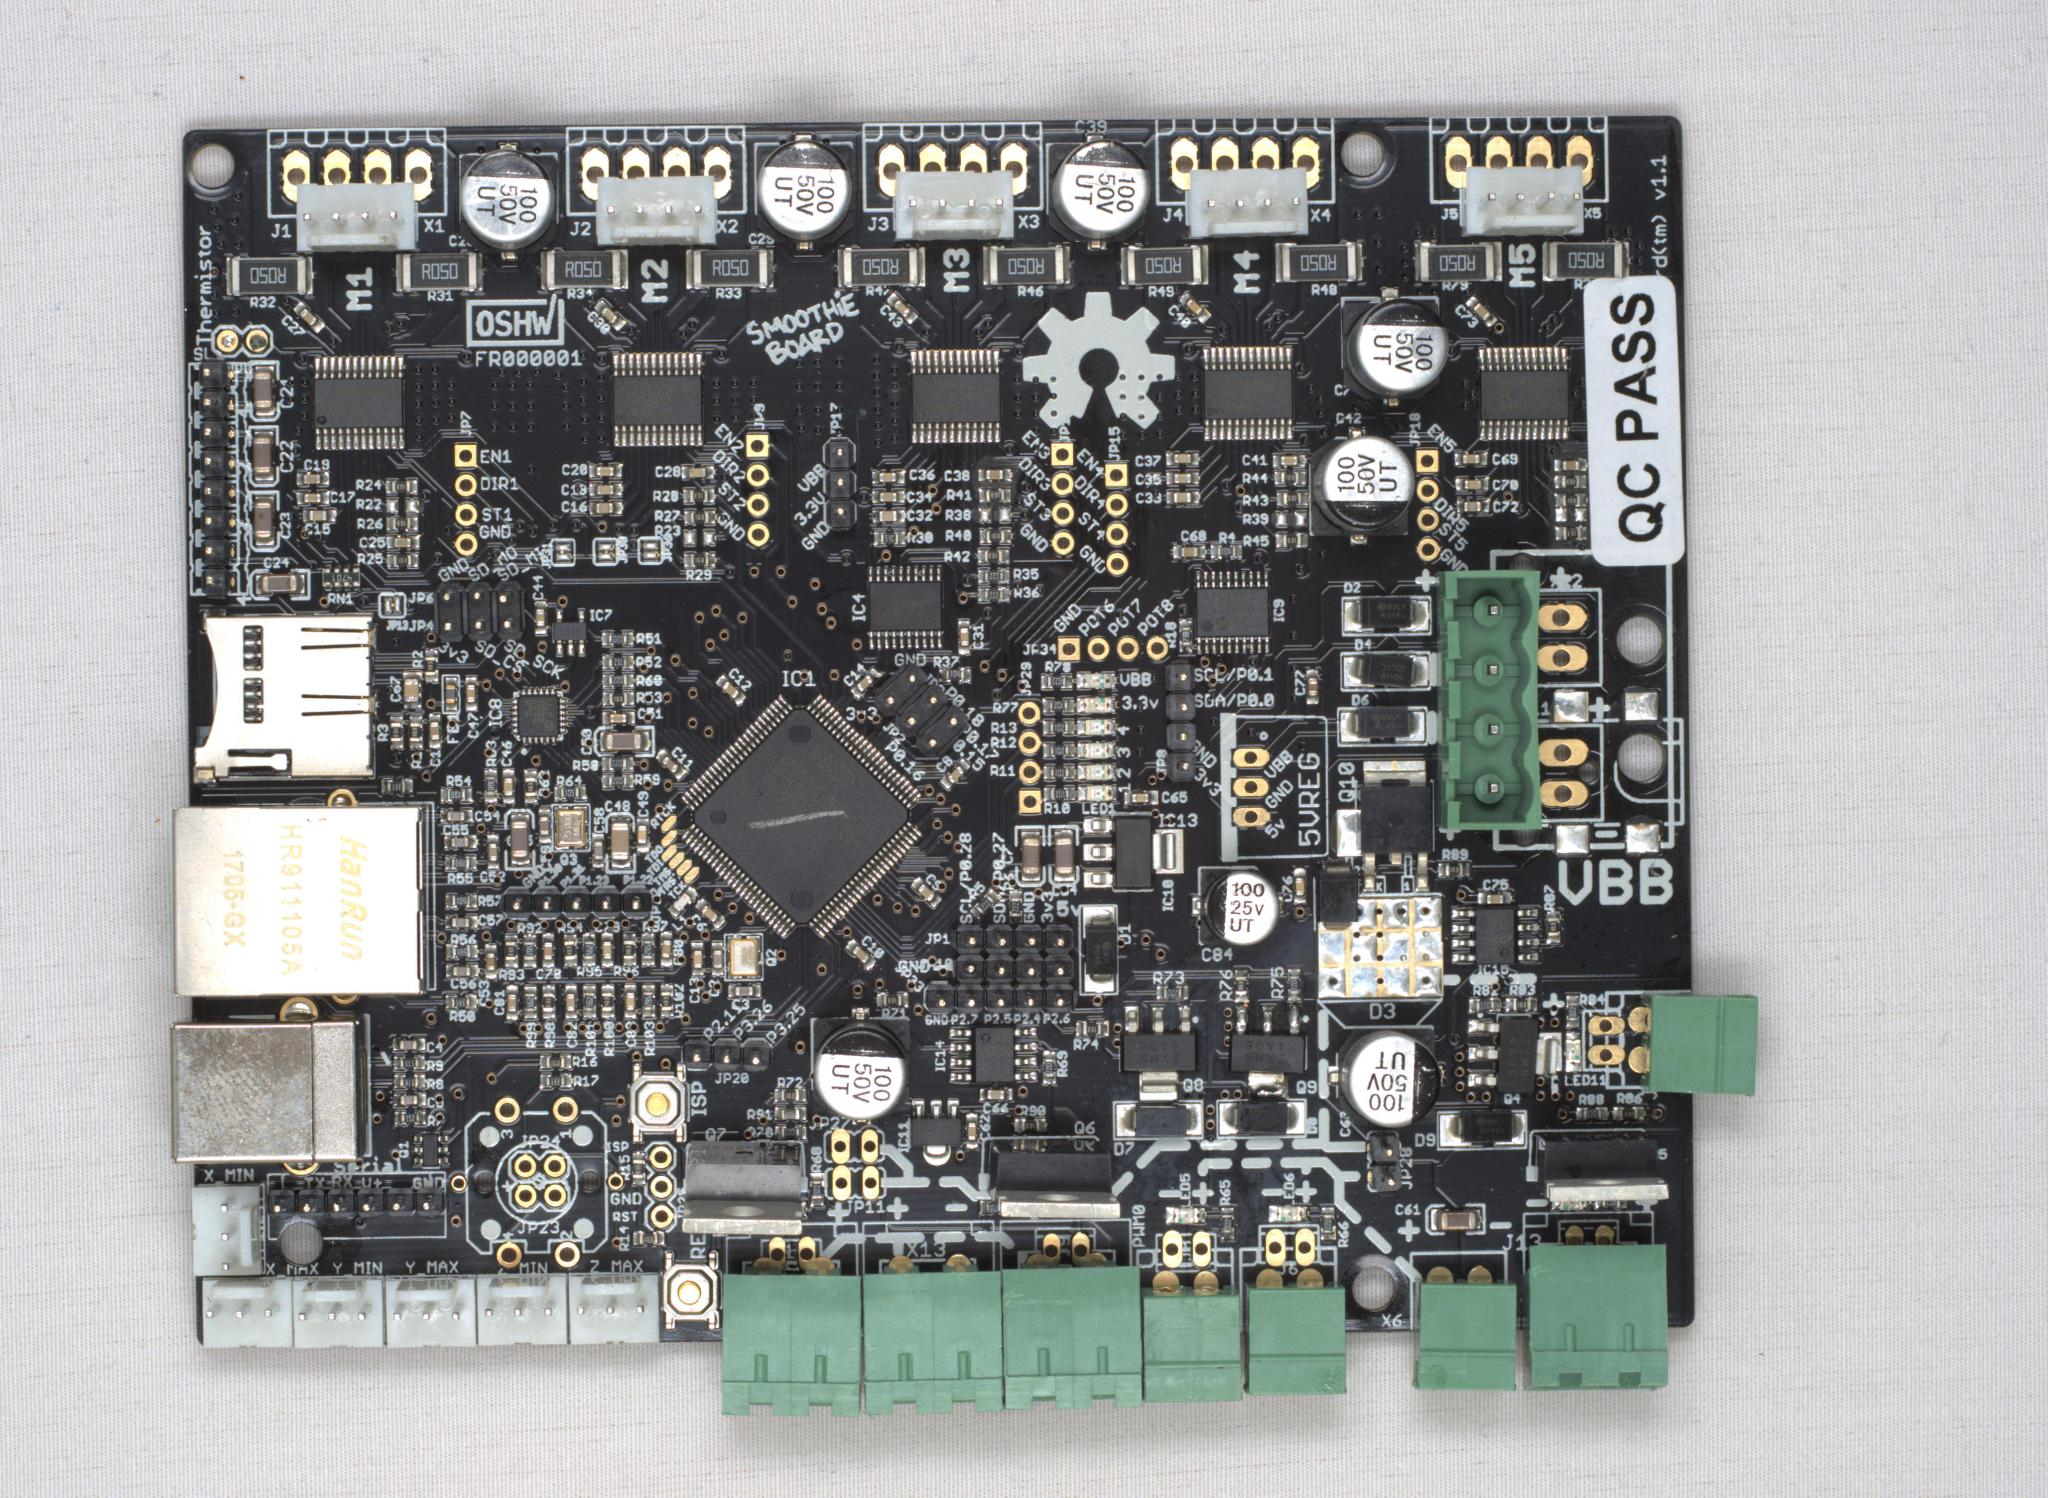Button: (626, 1060, 686, 1141), (662, 1247, 720, 1327)
Capacitor: (502, 806, 534, 869), (604, 809, 636, 872), (246, 423, 278, 486), (248, 566, 310, 598), (596, 724, 658, 756), (1424, 1201, 1486, 1233), (248, 489, 280, 550), (1047, 823, 1079, 883), (1014, 823, 1044, 886), (249, 359, 279, 420), (592, 296, 626, 331), (938, 755, 972, 789), (884, 290, 918, 324), (848, 665, 882, 698), (1178, 289, 1210, 324), (655, 746, 687, 780), (714, 672, 746, 705), (1464, 294, 1496, 327), (292, 300, 324, 333), (844, 937, 876, 969), (910, 875, 942, 906), (402, 669, 422, 707), (588, 497, 622, 514), (871, 506, 905, 523), (391, 1034, 425, 1051), (1165, 449, 1199, 466), (1165, 468, 1199, 485), (1270, 450, 1306, 466), (301, 506, 335, 522), (385, 532, 419, 548), (1170, 541, 1204, 557), (601, 707, 635, 723), (587, 461, 621, 477), (685, 466, 719, 482), (871, 468, 905, 484), (295, 469, 329, 485), (1454, 473, 1488, 489), (870, 487, 904, 503), (1165, 487, 1199, 503), (296, 488, 328, 505), (976, 466, 1012, 481), (956, 615, 970, 653), (1124, 788, 1156, 804), (588, 480, 620, 496), (1456, 497, 1490, 512), (444, 961, 478, 976), (1292, 866, 1306, 902), (563, 981, 577, 1017), (622, 982, 636, 1018), (444, 912, 476, 927), (979, 1085, 1011, 1100), (393, 1090, 425, 1105), (438, 807, 472, 821), (727, 982, 761, 996), (1454, 450, 1486, 464), (1477, 889, 1511, 902), (464, 673, 476, 709), (486, 832, 498, 868), (690, 938, 702, 974), (710, 938, 722, 974), (484, 941, 496, 977), (533, 599, 545, 634), (1306, 668, 1318, 703), (428, 712, 440, 747), (502, 766, 514, 801), (636, 815, 648, 850), (541, 930, 553, 965), (506, 982, 518, 1017), (965, 1111, 977, 1146), (443, 833, 475, 846), (590, 832, 602, 866), (1552, 457, 1586, 469), (601, 932, 613, 963), (539, 806, 549, 842), (660, 930, 670, 963)
Clock: (723, 931, 763, 980), (550, 801, 590, 849)
Connector: (168, 786, 436, 1003), (168, 996, 372, 1175), (188, 603, 378, 785), (1434, 568, 1540, 830), (1524, 1207, 1668, 1387), (723, 1234, 861, 1415), (863, 1233, 1003, 1410), (1003, 1233, 1143, 1409), (1408, 1253, 1516, 1389), (1624, 988, 1756, 1093), (1143, 1267, 1243, 1401), (1246, 1265, 1346, 1393), (186, 361, 238, 596), (576, 142, 736, 201), (1166, 134, 1324, 192), (874, 141, 1032, 197), (859, 688, 953, 782), (892, 168, 1014, 240), (280, 145, 434, 202), (295, 181, 419, 251), (1441, 132, 1595, 188), (1458, 166, 1584, 234), (595, 175, 717, 245), (1186, 167, 1308, 234), (1534, 721, 1604, 821), (190, 1182, 264, 1273), (384, 1273, 476, 1345), (201, 1273, 293, 1345), (567, 1270, 659, 1341), (476, 1272, 568, 1343), (292, 1274, 382, 1345), (1538, 586, 1602, 685), (266, 1186, 444, 1214), (501, 884, 651, 917), (924, 981, 1076, 1010), (1164, 660, 1196, 780), (1230, 741, 1272, 829), (950, 922, 1074, 951), (953, 952, 1075, 981), (1102, 459, 1130, 578), (1412, 445, 1440, 561), (822, 435, 856, 529), (744, 430, 770, 548), (1048, 437, 1074, 555), (679, 1037, 771, 1070), (1056, 634, 1168, 661), (644, 1136, 674, 1230), (452, 439, 476, 555), (1017, 698, 1041, 814), (434, 579, 524, 609), (432, 611, 526, 638), (1260, 1223, 1316, 1263), (1156, 1226, 1212, 1266), (1365, 1127, 1399, 1191), (822, 1162, 886, 1196), (822, 1126, 884, 1161), (506, 1178, 570, 1210), (1586, 1011, 1624, 1064), (506, 1147, 570, 1178), (212, 323, 272, 356), (488, 1237, 526, 1268), (549, 1238, 583, 1269), (490, 1092, 520, 1123), (550, 1093, 578, 1123)
Diode: (1340, 650, 1438, 691), (1334, 706, 1436, 745), (1077, 902, 1117, 993), (1215, 1097, 1307, 1136), (1111, 1098, 1203, 1137), (1434, 1108, 1526, 1147), (1340, 595, 1430, 634), (1315, 858, 1355, 927)
Electrolytic Capacitor: (1336, 285, 1448, 404), (454, 139, 560, 259), (1307, 426, 1415, 543), (1044, 135, 1152, 249), (1326, 1025, 1444, 1126), (808, 1005, 908, 1124), (755, 131, 851, 251), (1156, 857, 1244, 939)
Ferrite Bead: (440, 672, 460, 712)
IC: (678, 692, 922, 938), (311, 350, 405, 449), (1477, 345, 1569, 440), (610, 350, 702, 445), (1200, 345, 1292, 438), (909, 348, 1001, 441), (1079, 809, 1181, 890), (1192, 569, 1270, 656), (866, 563, 942, 646), (1452, 905, 1538, 963), (908, 1094, 962, 1165), (509, 684, 567, 743), (550, 605, 584, 655)
Inductor: (666, 883, 698, 915)
Led: (1075, 715, 1115, 735), (1074, 670, 1116, 689), (1266, 1202, 1308, 1220), (1164, 1204, 1206, 1222), (1564, 1028, 1582, 1069), (1076, 694, 1116, 712), (1076, 761, 1116, 779), (1076, 739, 1114, 757), (1076, 782, 1116, 799), (1552, 1197, 1590, 1208)
Pads: (1552, 685, 1662, 853), (1312, 892, 1442, 997), (376, 590, 406, 617), (636, 534, 660, 564), (550, 535, 574, 565), (592, 536, 616, 565), (682, 528, 716, 547), (1272, 508, 1306, 526), (384, 496, 418, 513), (976, 505, 1012, 521), (1554, 505, 1586, 521), (682, 862, 700, 881), (667, 849, 683, 869), (660, 813, 676, 831), (660, 827, 676, 845), (660, 842, 676, 860), (676, 857, 692, 875)
Resistor Jumper: (320, 564, 360, 589)
Resistor Network: (1274, 240, 1362, 283), (686, 247, 774, 289), (836, 246, 926, 287), (1413, 240, 1501, 281), (1120, 244, 1208, 285), (538, 249, 628, 289), (394, 252, 482, 291), (1542, 240, 1628, 279), (982, 246, 1070, 284), (968, 885, 1000, 918), (1040, 716, 1074, 735), (444, 891, 478, 909), (444, 851, 476, 870), (392, 1108, 426, 1125), (1042, 740, 1074, 758), (1042, 761, 1074, 779), (522, 767, 538, 802), (1272, 531, 1306, 547), (444, 942, 478, 958), (1154, 983, 1186, 1000), (876, 993, 908, 1010), (392, 1052, 424, 1069), (772, 1104, 806, 1120), (384, 477, 418, 493), (1044, 696, 1074, 714), (682, 507, 714, 523), (978, 526, 1010, 542), (1037, 665, 1069, 681), (602, 689, 634, 705), (1438, 858, 1470, 874), (393, 1072, 425, 1088), (552, 784, 586, 799), (1076, 983, 1110, 998), (1286, 964, 1300, 1000), (503, 930, 517, 965), (522, 932, 536, 967), (640, 981, 654, 1016), (523, 983, 537, 1018), (1565, 991, 1579, 1026), (1219, 1205, 1233, 1240), (1275, 491, 1307, 506), (1553, 491, 1585, 506), (385, 515, 417, 530), (386, 552, 418, 567), (978, 585, 1008, 601), (600, 630, 632, 645), (938, 666, 970, 681), (1039, 673, 1071, 688), (380, 776, 412, 791), (482, 770, 498, 800), (439, 785, 471, 800), (538, 1052, 570, 1067), (539, 1071, 571, 1086), (682, 487, 714, 502), (388, 714, 402, 748), (1544, 908, 1558, 942), (1234, 968, 1248, 1002), (600, 983, 614, 1017), (541, 983, 555, 1017), (772, 1087, 806, 1101), (631, 1148, 645, 1182), (1320, 1203, 1334, 1237), (1272, 469, 1306, 483), (528, 771, 542, 804), (563, 932, 577, 965), (808, 1171, 822, 1204), (873, 530, 903, 545), (1210, 543, 1240, 558), (774, 1123, 804, 1138), (632, 1228, 662, 1243), (1553, 524, 1585, 538), (976, 547, 1008, 561), (601, 653, 633, 667), (602, 672, 634, 686), (602, 755, 634, 769), (640, 932, 654, 964), (444, 993, 476, 1007), (1468, 997, 1500, 1011), (977, 487, 1009, 501), (684, 551, 714, 565), (1046, 1048, 1058, 1083), (977, 568, 1009, 581), (600, 773, 632, 786), (1611, 1105, 1643, 1118), (1575, 1105, 1607, 1118), (1013, 1117, 1045, 1130), (440, 717, 452, 751), (582, 981, 594, 1015), (660, 982, 672, 1016), (1009, 888, 1021, 921), (622, 929, 634, 962), (582, 931, 594, 964), (1506, 996, 1536, 1009), (1554, 475, 1586, 487), (978, 1198, 1000, 1213), (1594, 1197, 1626, 1206), (1024, 1121, 1034, 1126)
Test Point: (448, 1168, 466, 1192), (606, 1169, 622, 1187)
Transistor: (1080, 773, 1182, 907), (680, 1139, 806, 1230), (980, 1136, 1118, 1216), (1528, 1125, 1668, 1199), (1466, 1012, 1562, 1091), (1119, 1002, 1195, 1100), (1226, 1001, 1306, 1094), (410, 1128, 448, 1164)
